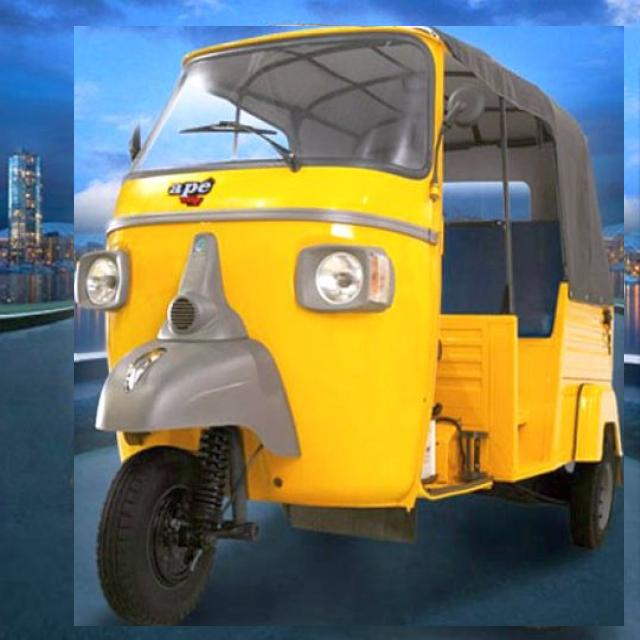autorickshaw: (74, 26, 624, 626)
